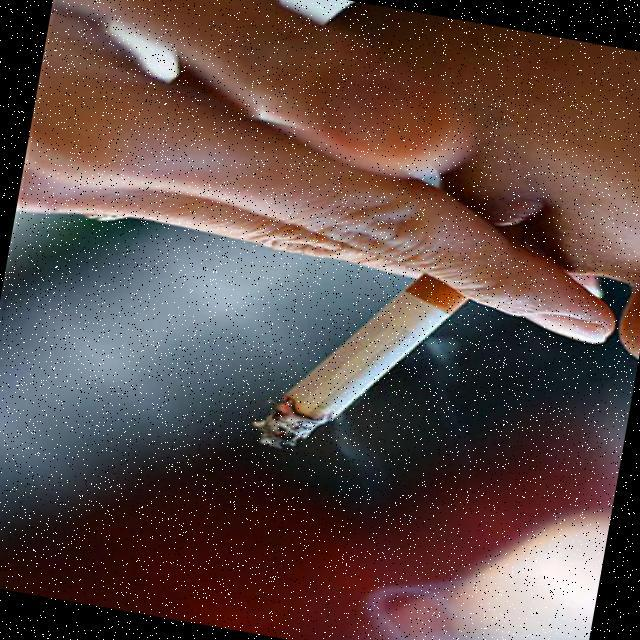cigarette: (278, 264, 472, 497)
